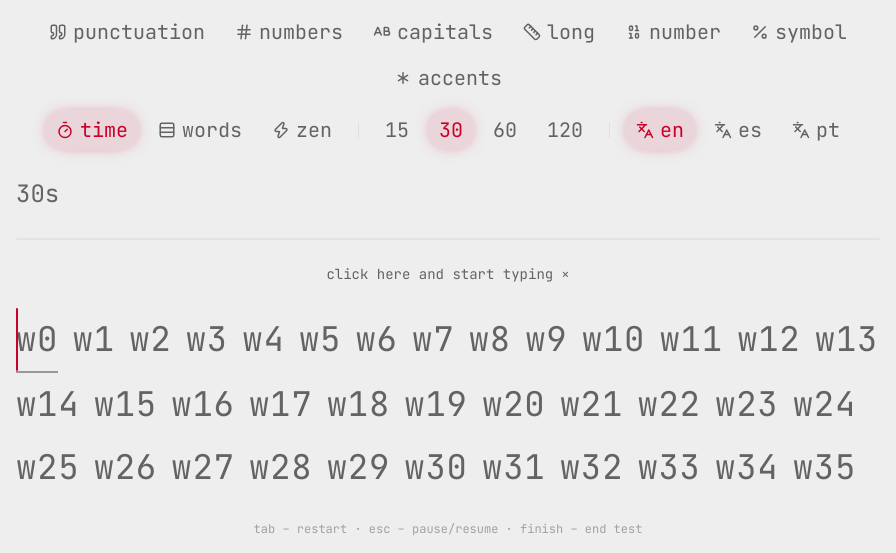
it: TypingTest › changes duration and mode from the toolbar
Click the button "60". click: (505, 130)
box: x1=481 y1=110 x2=529 y2=150
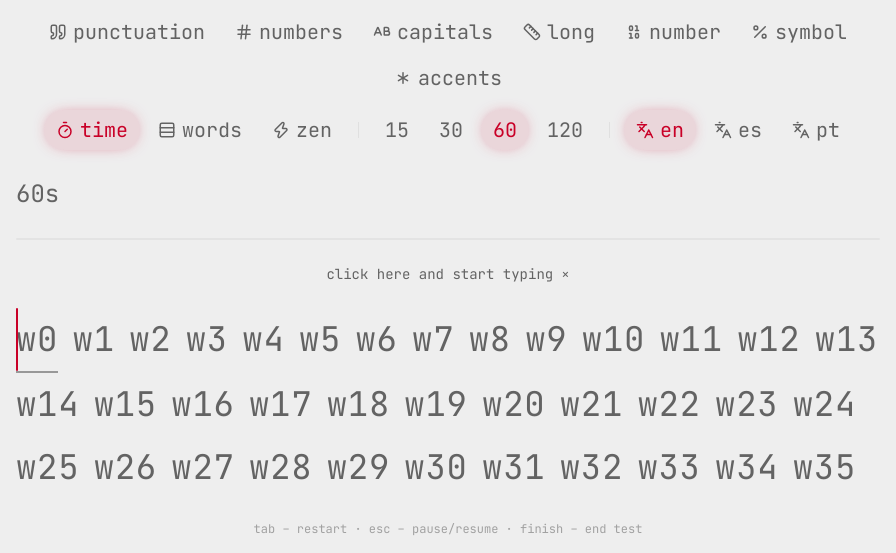
Check: the text "60s" is shown, box x1=16 y1=178 x2=59 y2=210
Click the button "words". click: (200, 130)
box: x1=146 y1=110 x2=254 y2=150
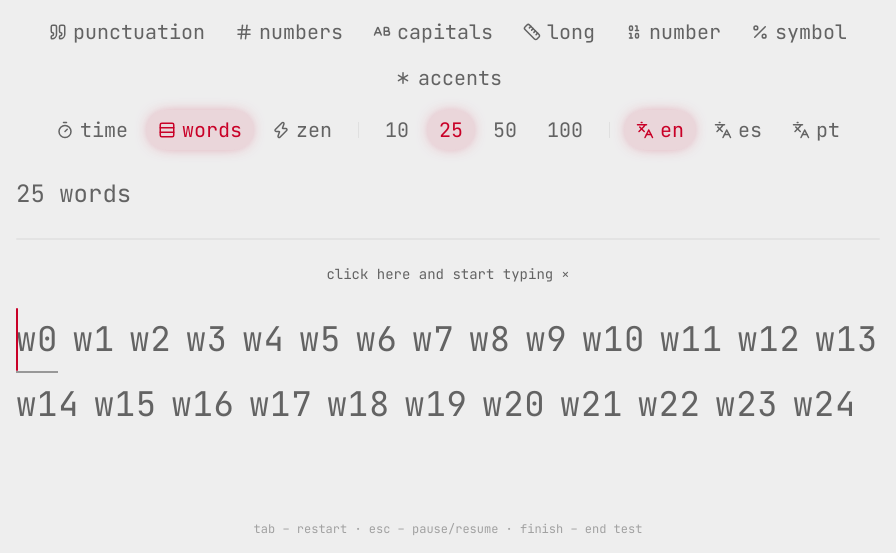
Check: the text "25 words" is shown, box x1=16 y1=178 x2=131 y2=210
